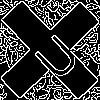U: (25, 25, 83, 84)
